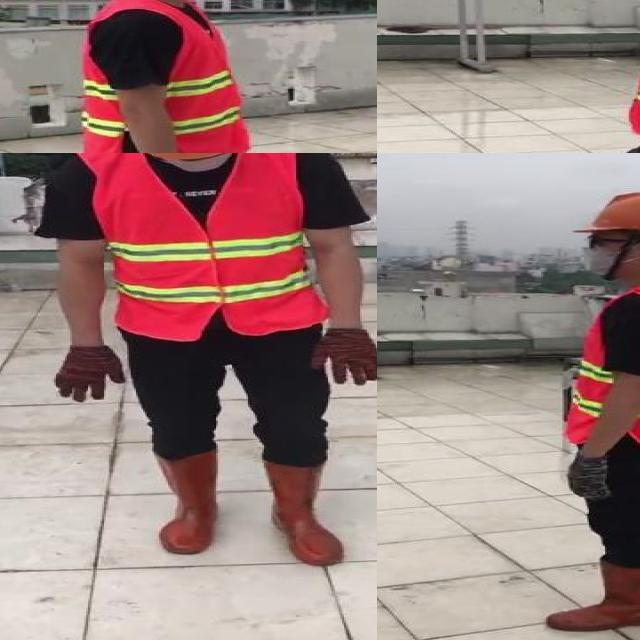boots: (262, 459, 344, 567), (145, 450, 225, 554), (544, 559, 640, 631)
face_mask: (574, 229, 640, 278)
hand_glove: (52, 345, 126, 401), (315, 327, 377, 385), (566, 454, 619, 500)
head_helmet: (24, 153, 377, 580), (585, 187, 640, 240)
person: (523, 183, 640, 636), (37, 0, 312, 153), (548, 0, 640, 153)
vest: (79, 153, 329, 338), (81, 0, 247, 153), (564, 284, 640, 450)
